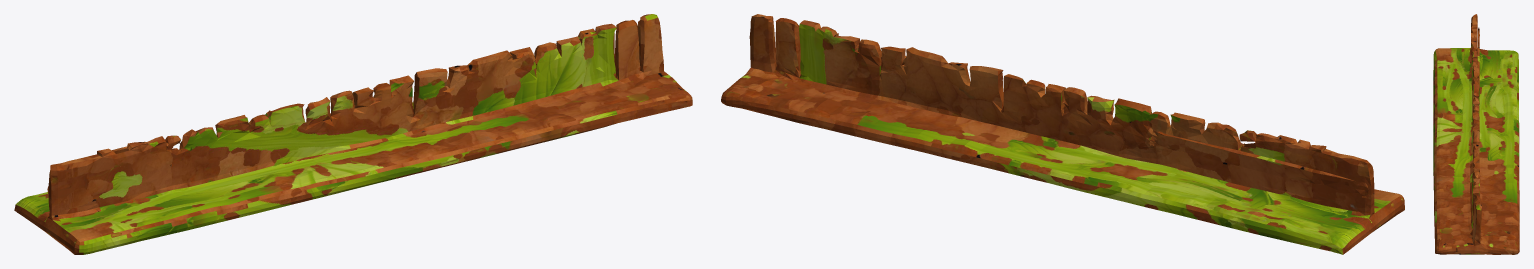
The model's file is fence alone 2.obj.
3 renders of one model, left to right at view 1: azimuth 30°, elevation 25°; view 2: azimuth 150°, elevation 25°; view 3: azimuth 270°, elevation 25°, orthographic. The views are drawn at different scales.
Parts seen in each view (by area): view 1: tripo_node_1f6b1eae-89cc-4b3b-b612-d2e6f9801beb; view 2: tripo_node_1f6b1eae-89cc-4b3b-b612-d2e6f9801beb; view 3: tripo_node_1f6b1eae-89cc-4b3b-b612-d2e6f9801beb.
Boxes of the visible parts, box(x1,y1,x2,y2) form: tripo_node_1f6b1eae-89cc-4b3b-b612-d2e6f9801beb: box(14, 14, 692, 254); tripo_node_1f6b1eae-89cc-4b3b-b612-d2e6f9801beb: box(721, 14, 1404, 254); tripo_node_1f6b1eae-89cc-4b3b-b612-d2e6f9801beb: box(1433, 14, 1519, 254).
Bounding box in the file's own units: 1 × 0.108 × 0.184.
